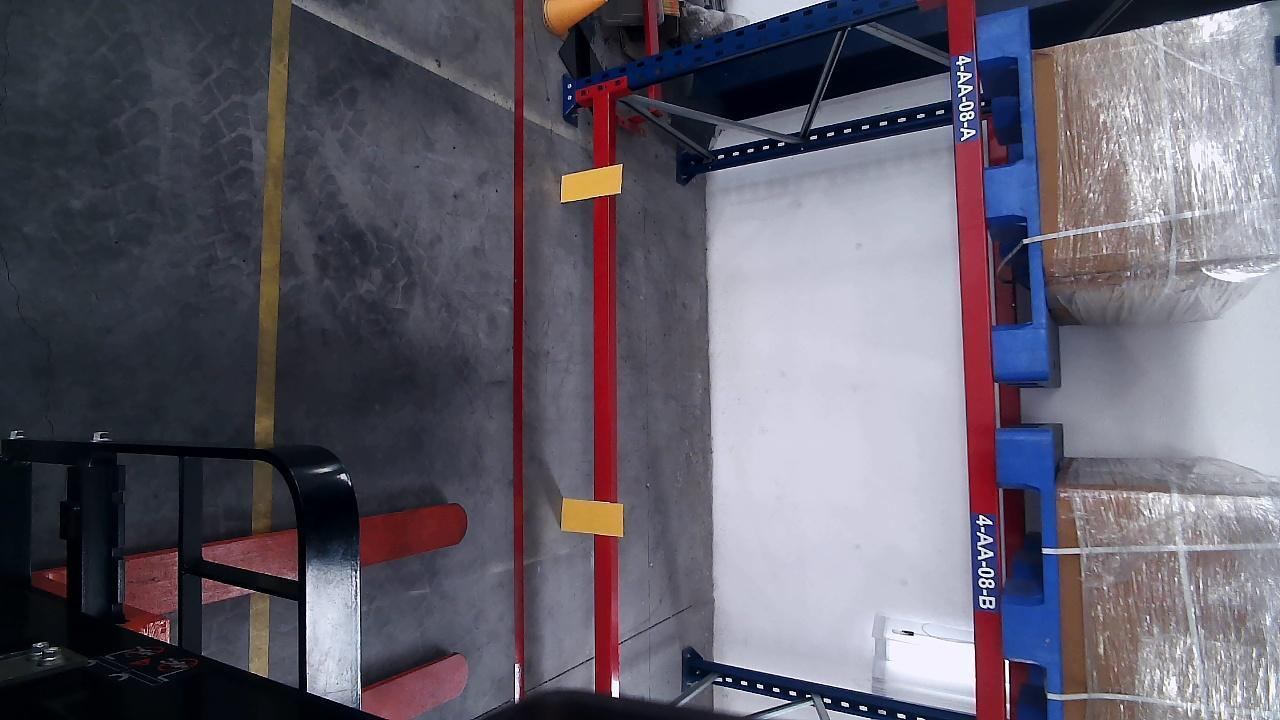red_line: (512, 1, 528, 705)
yellow_line: (250, 0, 294, 442)
